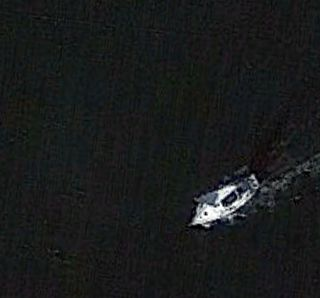boat: (189, 173, 262, 228)
